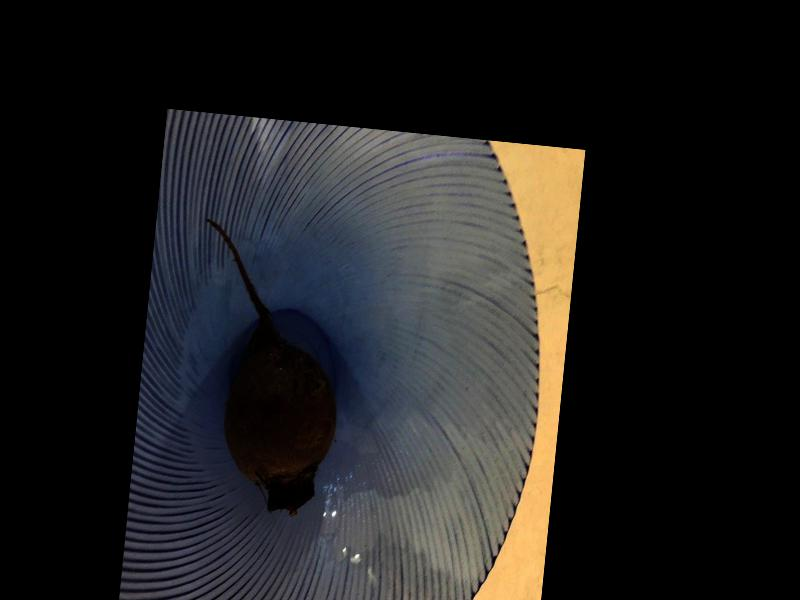Beet: (179, 219, 352, 516)
